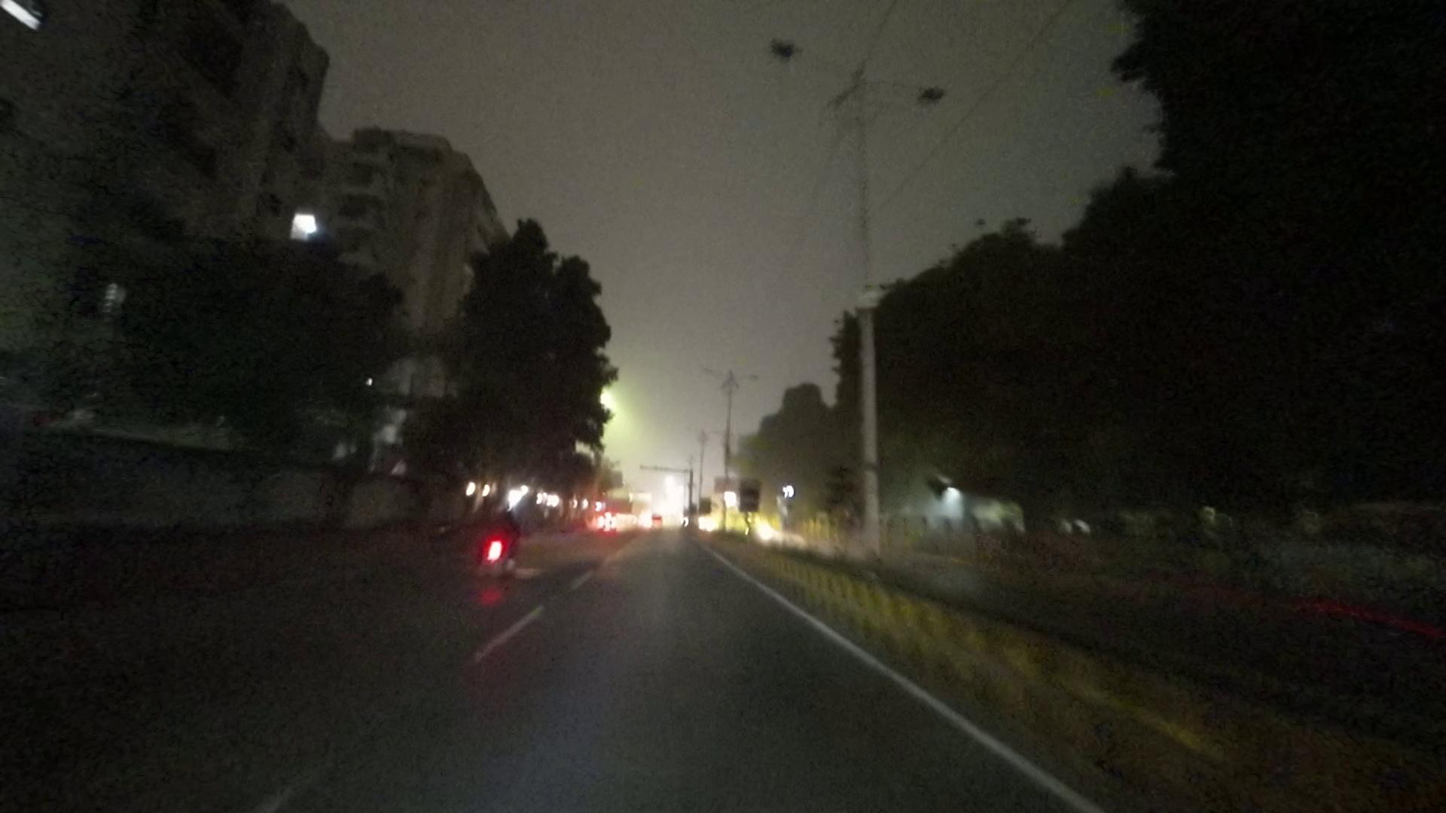streetlight: (765, 34, 848, 79), (871, 66, 952, 107)
